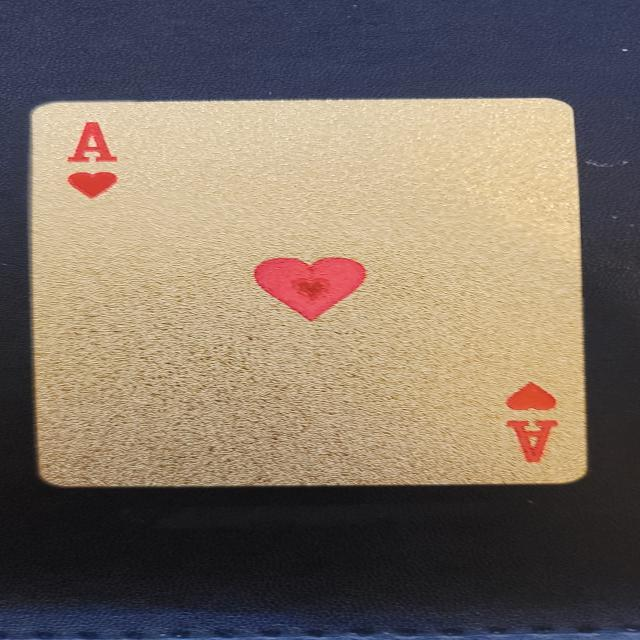Ace of hearts: (24, 97, 590, 489)
